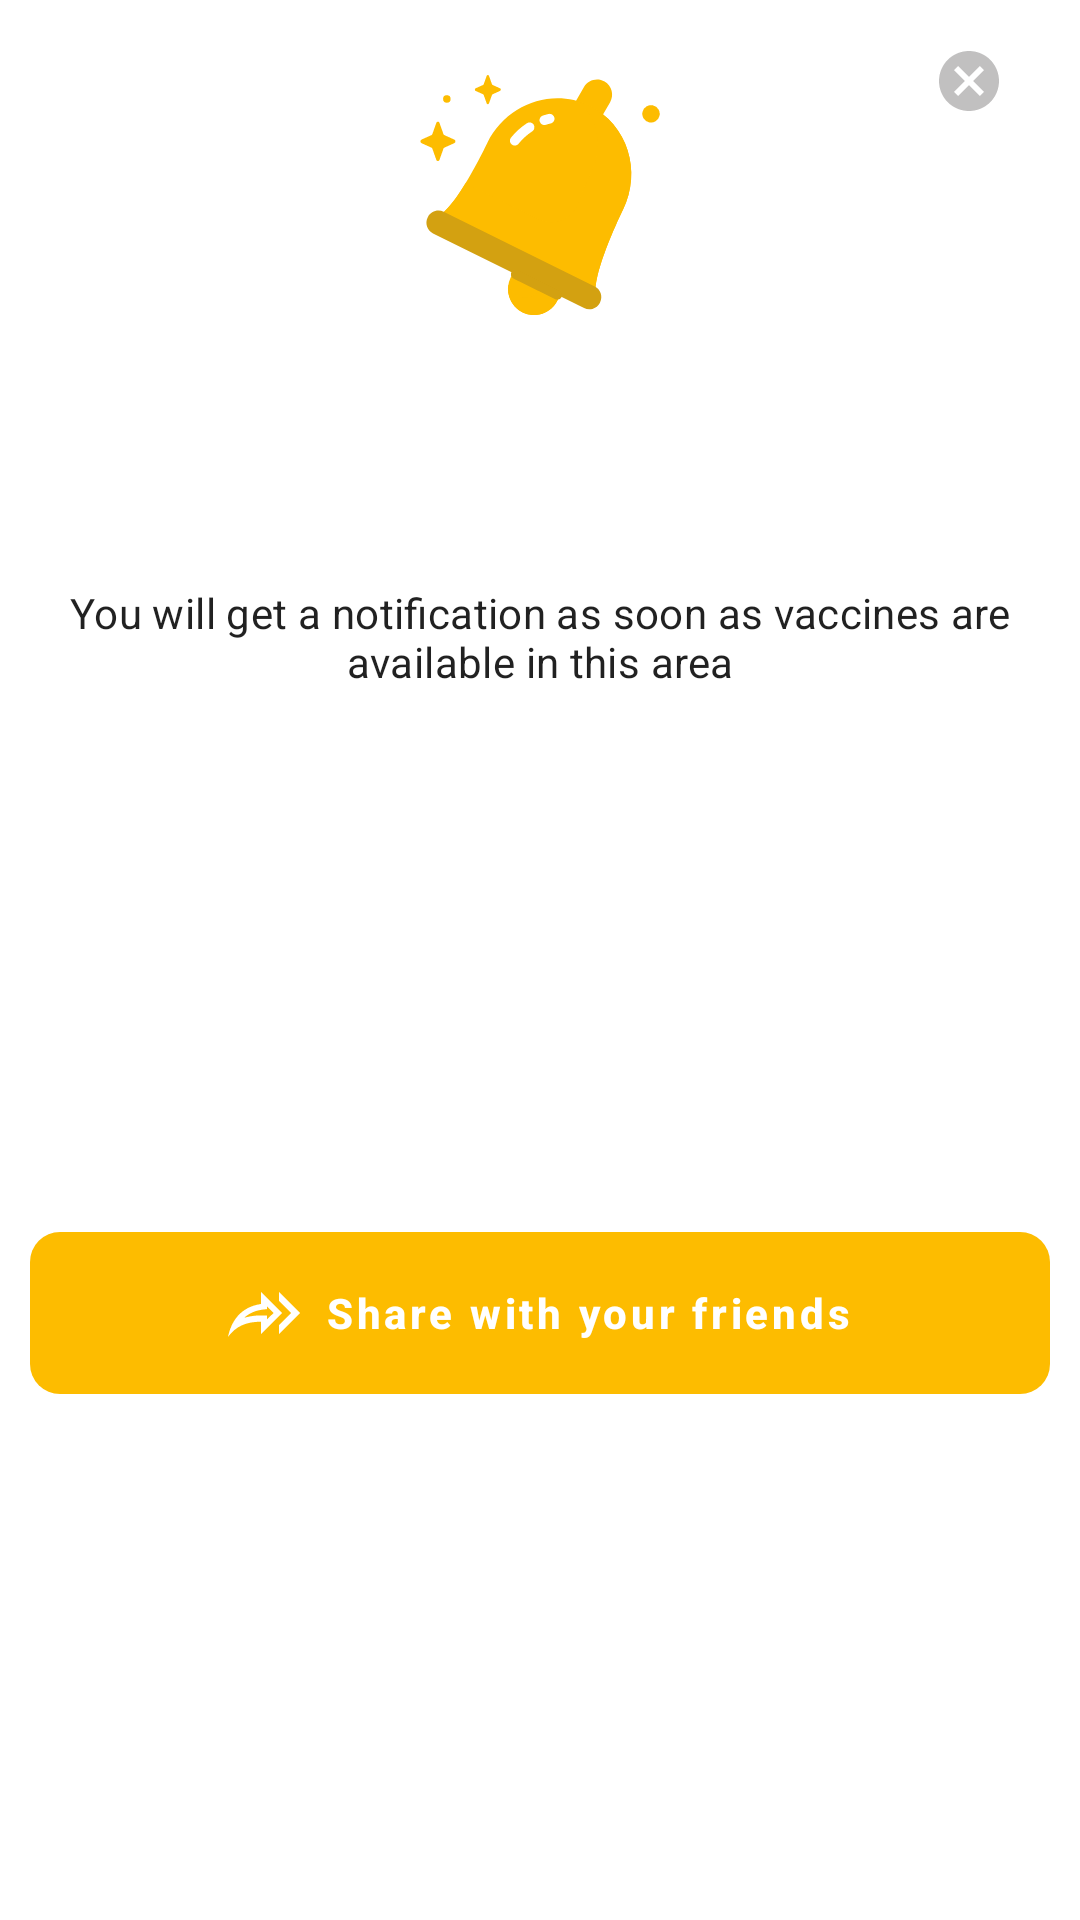

Locate icon controls on the screen. Image size 1080x1920, boxes as {"x1": x1, "y1": y1, "x2": x2, "y2": y2}.
bell: {"x1": 420, "y1": 75, "x2": 660, "y2": 315}
Close: {"x1": 939, "y1": 51, "x2": 999, "y2": 111}
